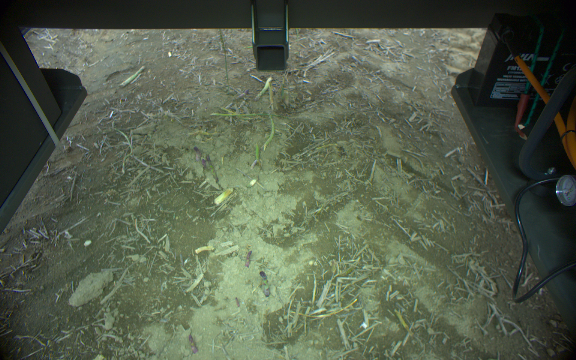aspa: (260, 269, 271, 299)
